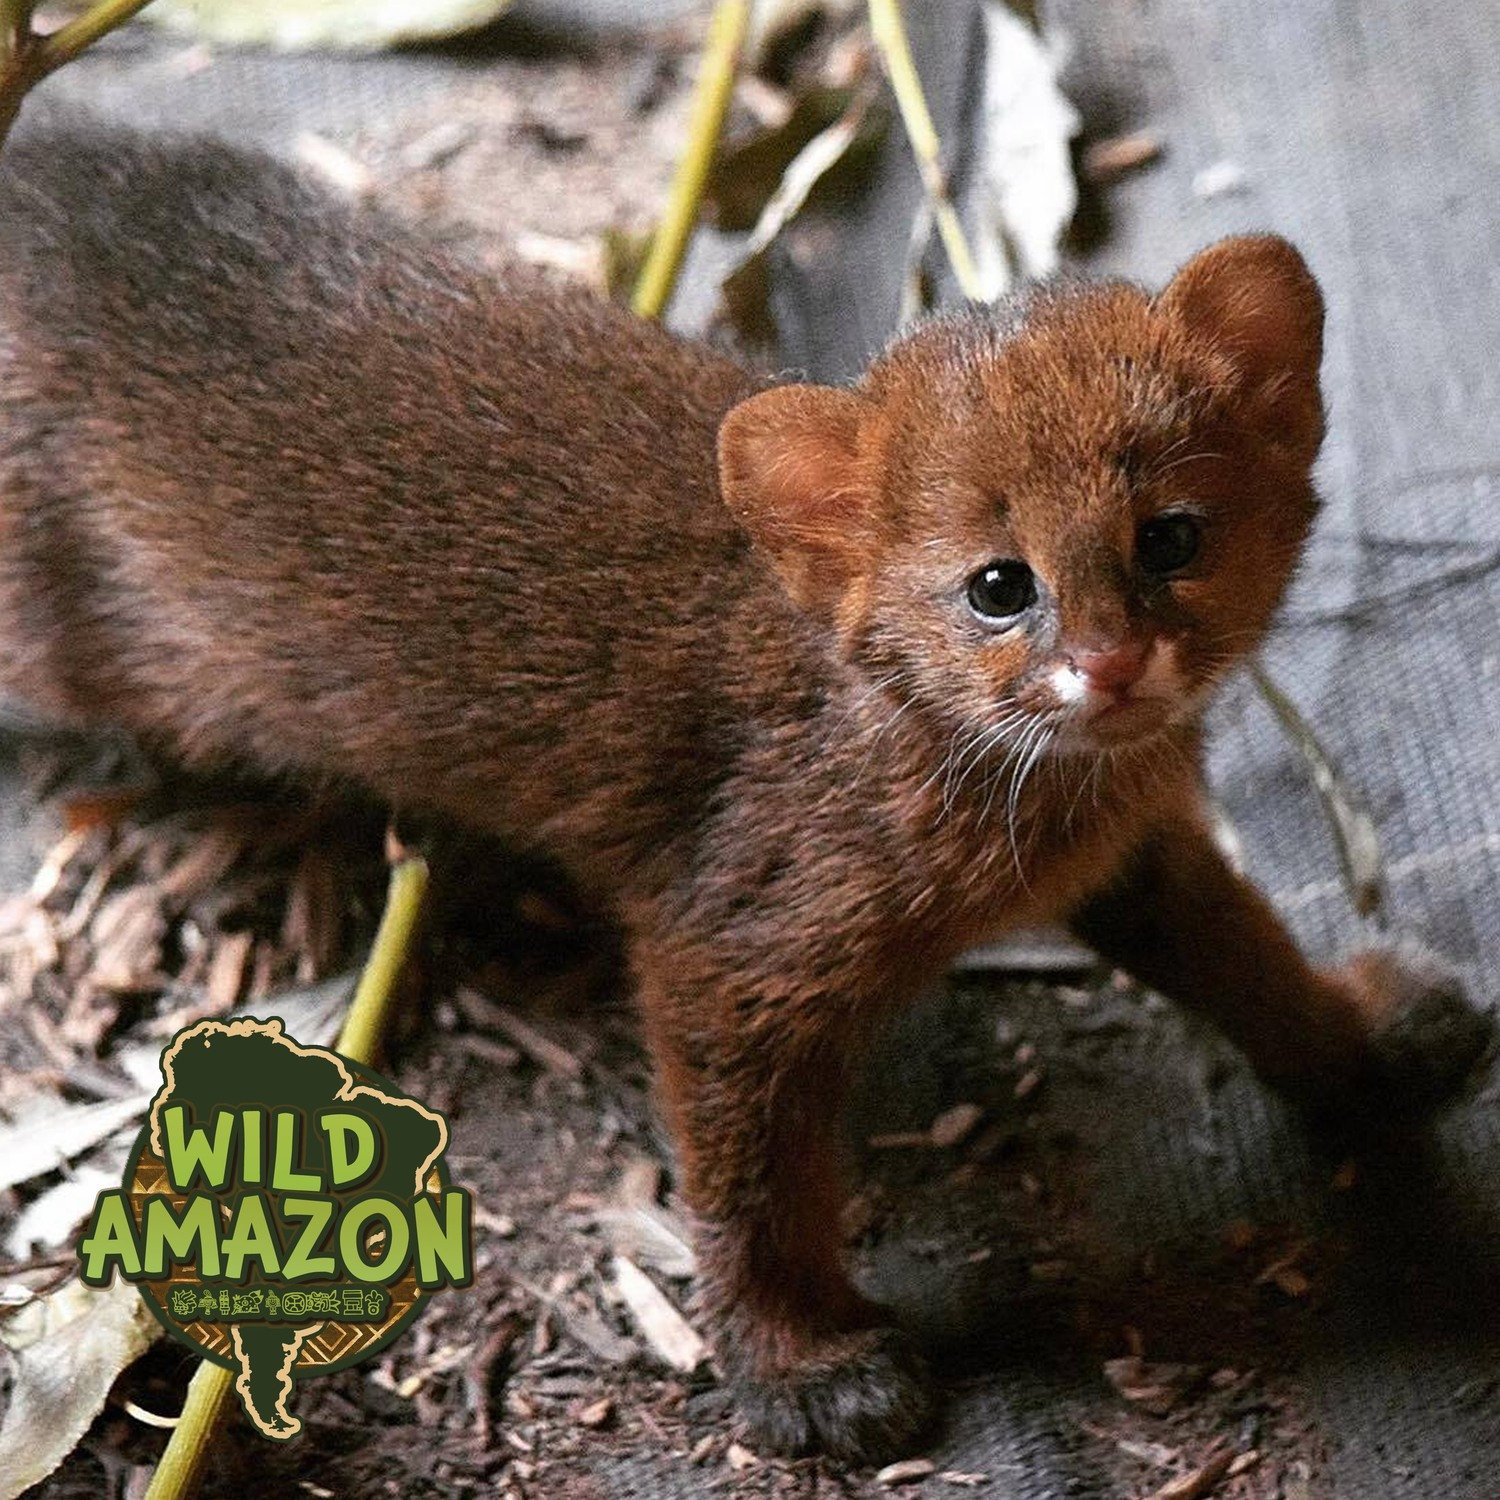Jaguarundi: (27, 81, 1479, 1286)
